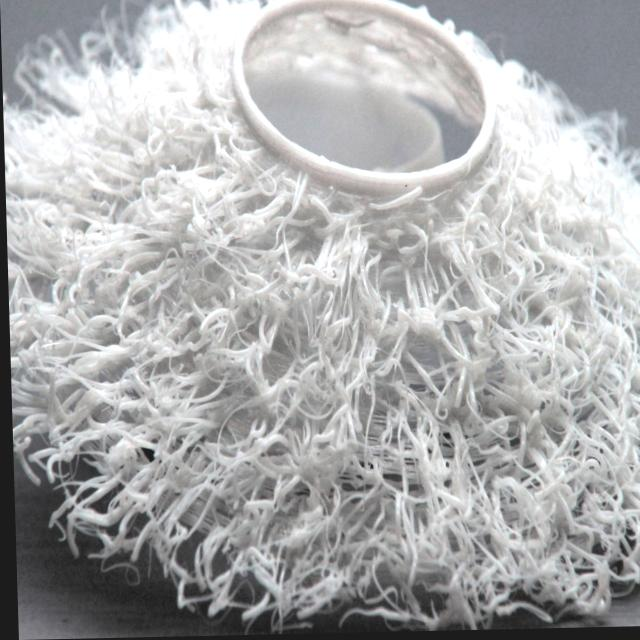spaghetti: (7, 0, 640, 640)
